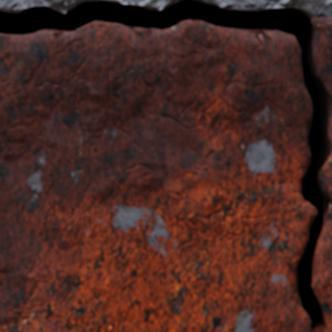broken_brick: (0, 20, 316, 331), (311, 152, 331, 331), (310, 17, 331, 106), (326, 118, 331, 146)
crack: (0, 0, 331, 331)
